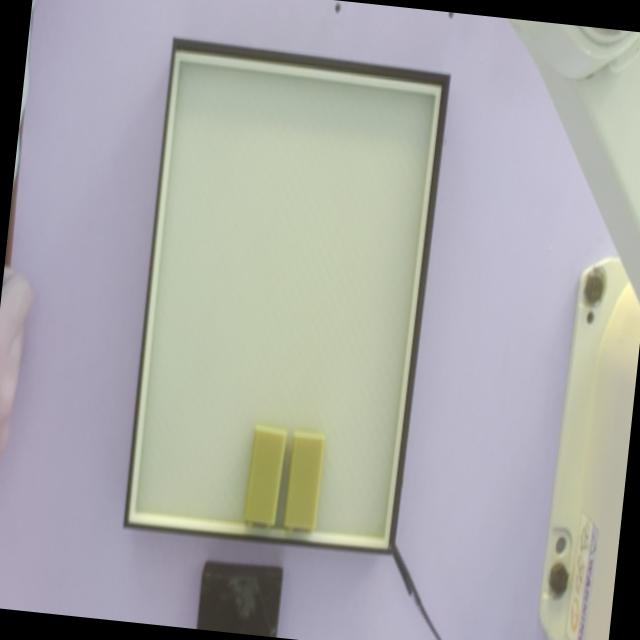bateria: (242, 425, 287, 530), (282, 429, 325, 533)
mesa: (123, 37, 450, 555)
